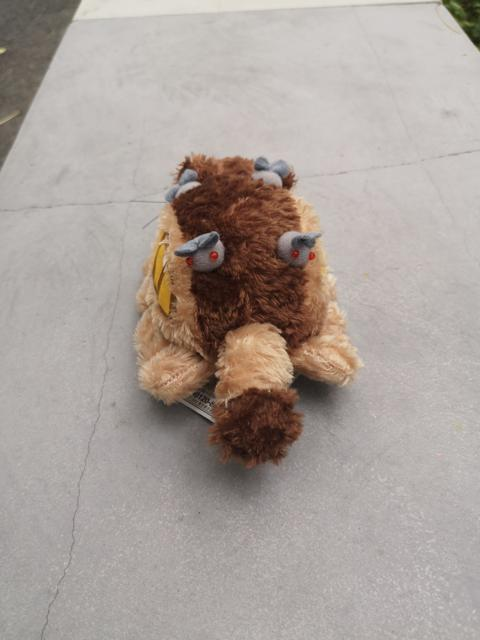nekobus: (130, 148, 370, 478)
